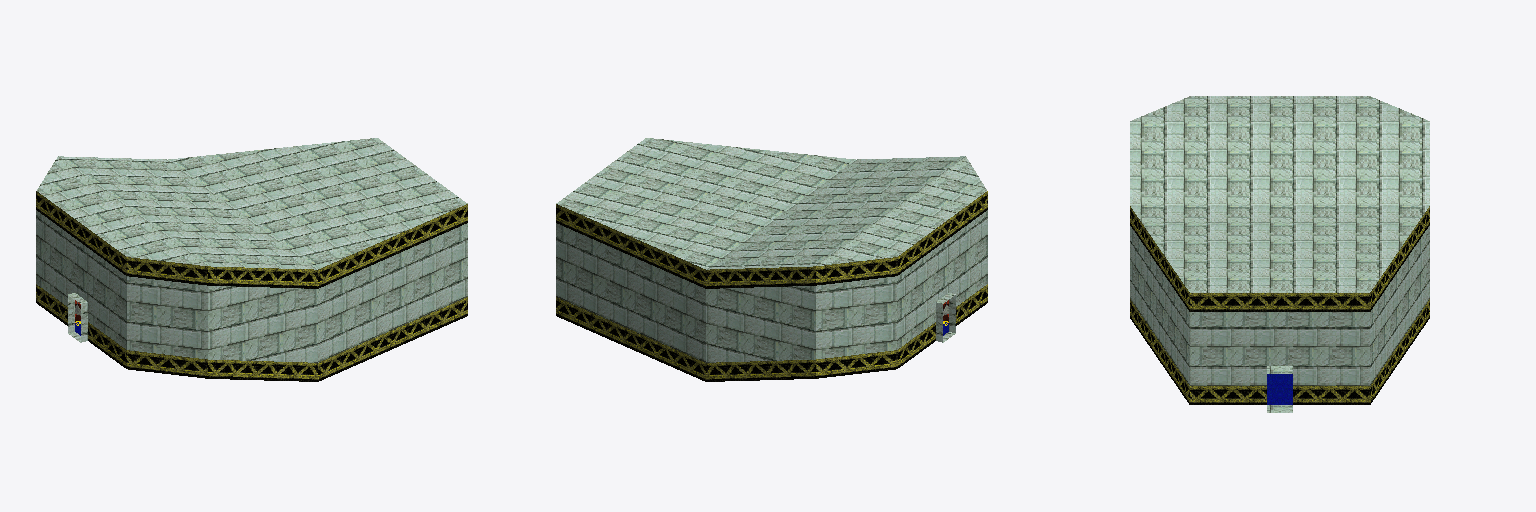
3 views of the same model, side by side, from view 1: azimuth 30°, elevation 25°; view 2: azimuth 150°, elevation 25°; view 3: azimuth 270°, elevation 25° (orthographic).
Parts seen in each view (by area): view 1: mesh.001__128.001, mesh.001__141.001; view 2: mesh.001__128.001, mesh.001__141.001; view 3: mesh.001__128.001, mesh.001__141.001, mesh.001__146.001.
Part boxes in pixels (left/top/right/bottom): mesh.001__128.001: left=36, top=138, right=467, bottom=362; mesh.001__141.001: left=36, top=191, right=467, bottom=381; mesh.001__128.001: left=556, top=138, right=987, bottom=362; mesh.001__141.001: left=556, top=191, right=987, bottom=381; mesh.001__128.001: left=1130, top=96, right=1429, bottom=412; mesh.001__141.001: left=1130, top=206, right=1429, bottom=404; mesh.001__146.001: left=1267, top=374, right=1292, bottom=404.
Bounding box in the file's own units: 977 × 383 × 700.
Materials: 8 (8 with a texture image).